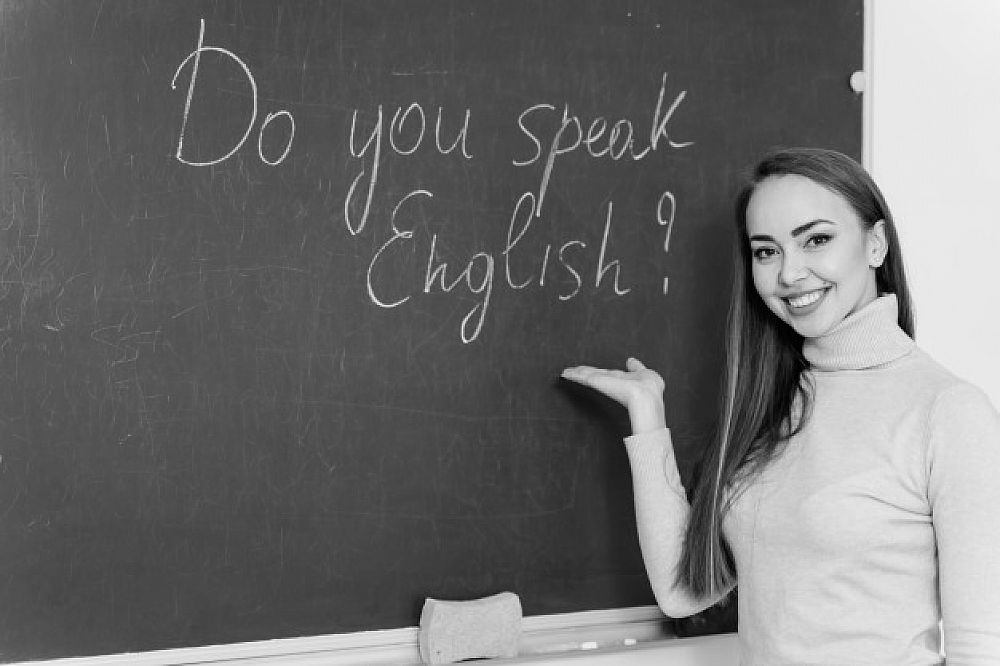pointing_gesture: (549, 353, 676, 412)
